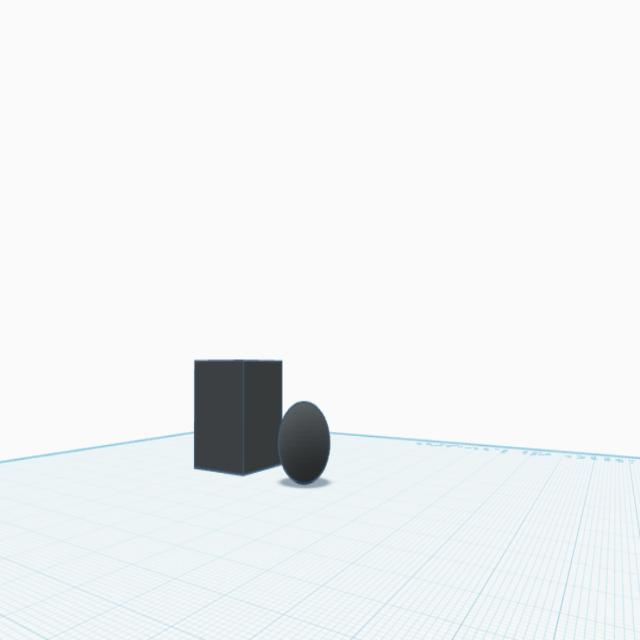cube: (192, 354, 286, 474)
sphere: (276, 399, 332, 490)
